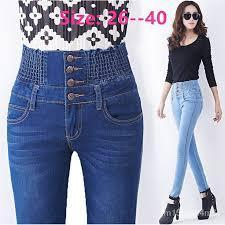Tshirt: (164, 33, 217, 88)
pants: (6, 48, 143, 225), (169, 83, 207, 196)
